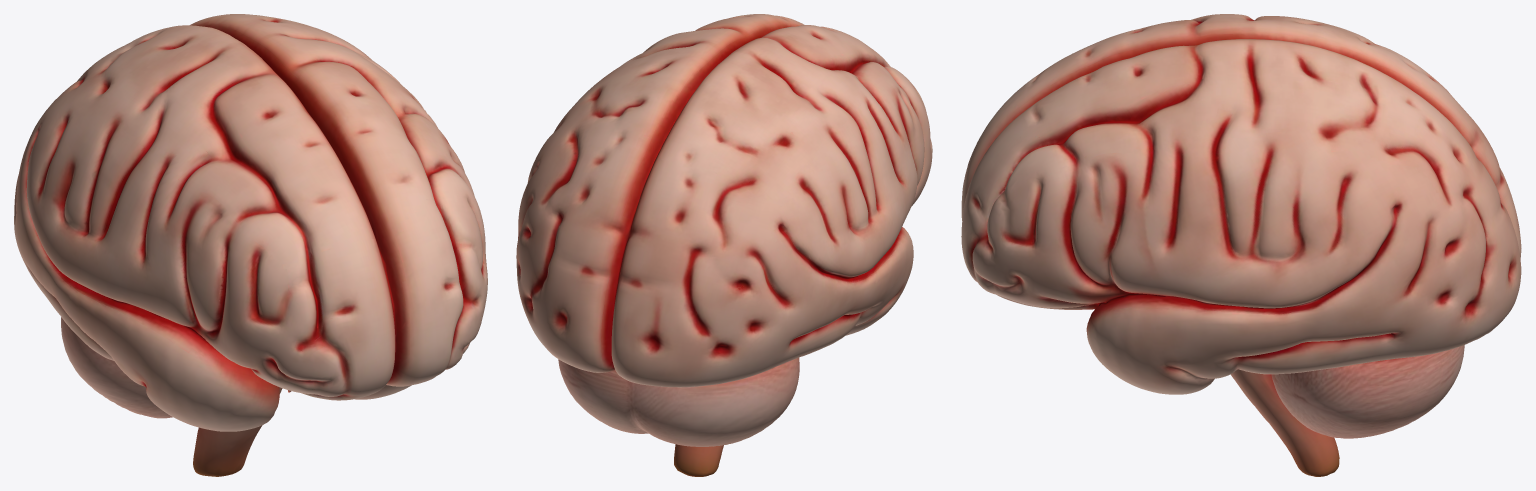
The model's file is brain_lateral_view.glb.
3 views of the same model, side by side, from view 1: azimuth 30°, elevation 25°; view 2: azimuth 150°, elevation 25°; view 3: azimuth 270°, elevation 25° (orthographic). The views are drawn at different scales.
Parts seen in each view (by area): view 1: model; view 2: model; view 3: model.
Part boxes in pixels (x1,y1,x2,y2): model: (14, 14, 487, 476); model: (516, 14, 932, 476); model: (961, 14, 1521, 476).
Bounding box in the file's own units: 1.35 × 1.63 × 1.9.
Materials: 1 (1 with a texture image).
